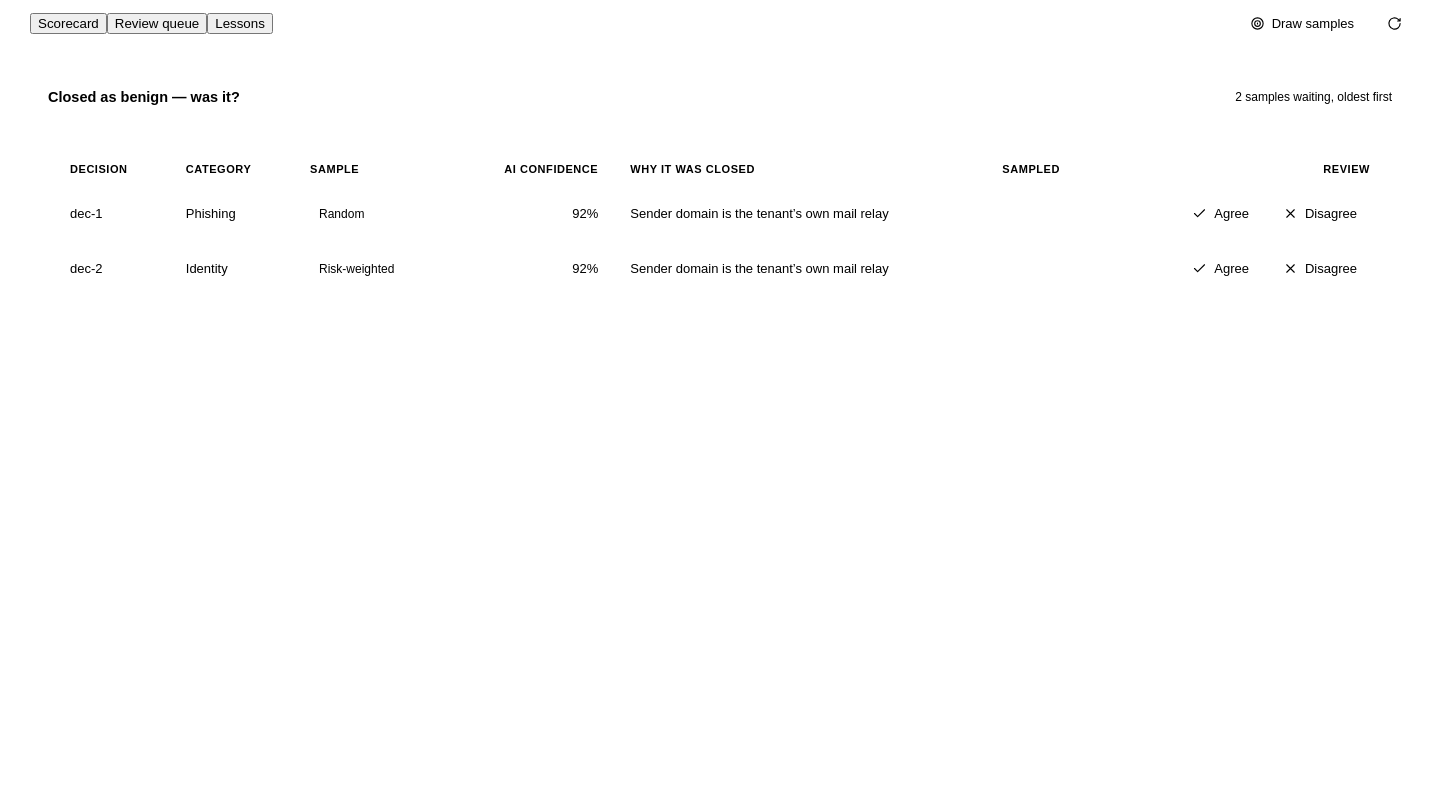
Test case: review queue tab › says what a disagreement does to the bound for each kind of sample
Click the button "Disagree" in the row of "dec-1": [1320, 214] box top-left (1270, 198), bottom-right (1370, 229)
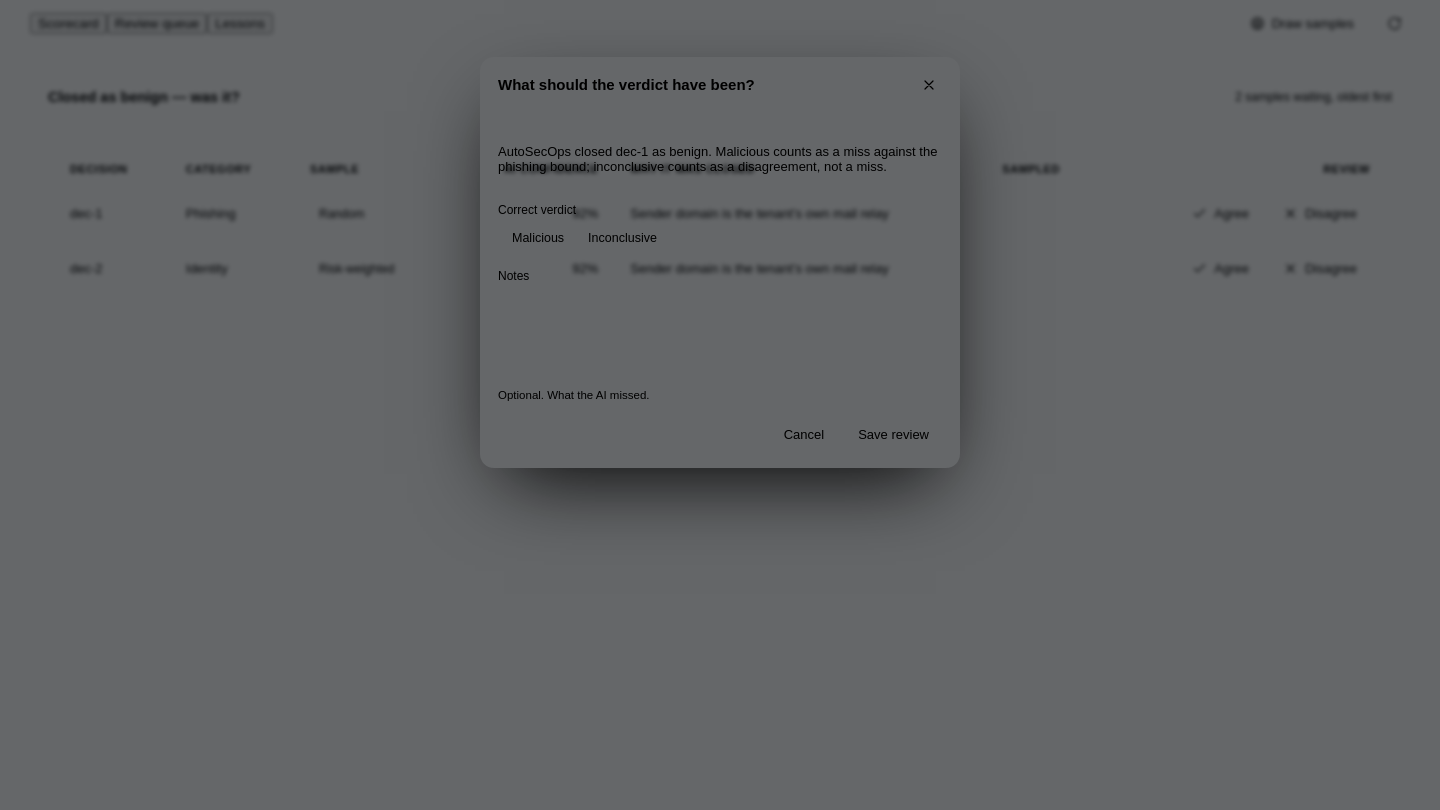
Check: the dialog shows "Malicious counts as a miss against the phishing bound; inconclusive counts as a disagreement, not a miss.", box top-left (498, 144), bottom-right (937, 174)
Click the button "Cancel": [804, 435] box top-left (771, 419), bottom-right (837, 450)
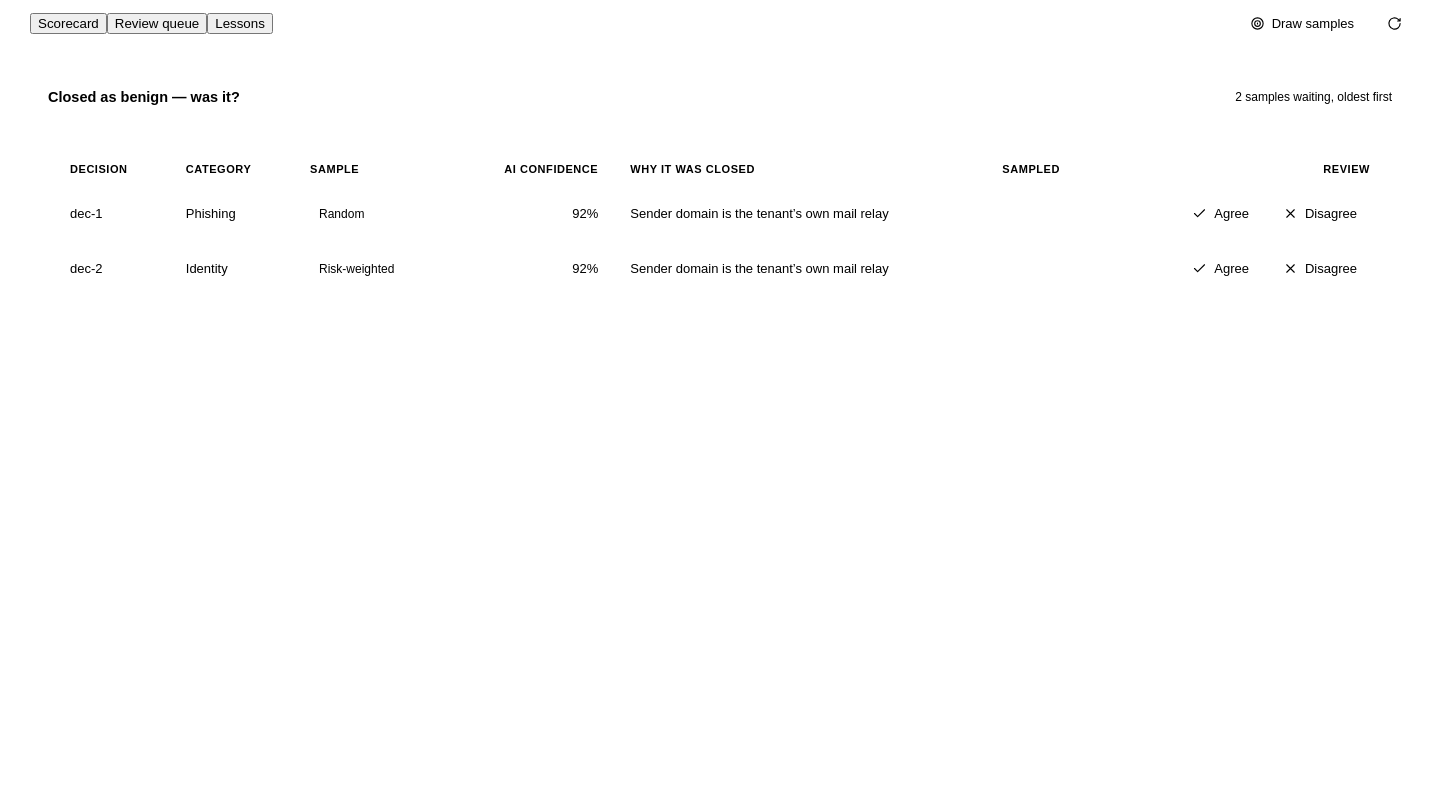
Check: the dialog is gone
Click the button "Disagree" in the row of "dec-2": [1320, 268] box top-left (1270, 253), bottom-right (1370, 284)
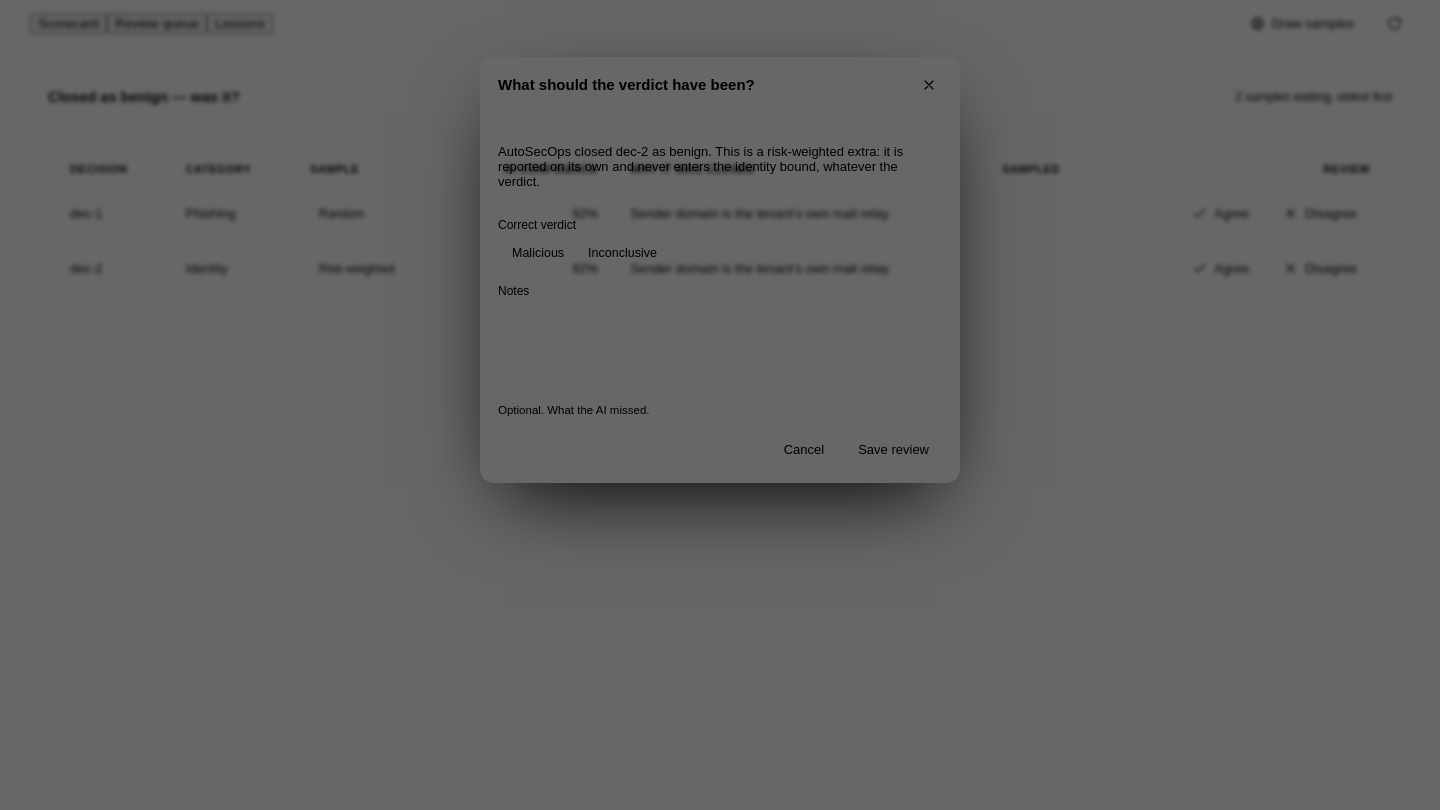
Check: the dialog does not show "counts as a miss", box top-left (480, 57), bottom-right (960, 483)
Check: the dialog shows "never enters the identity bound", box top-left (498, 144), bottom-right (903, 189)
